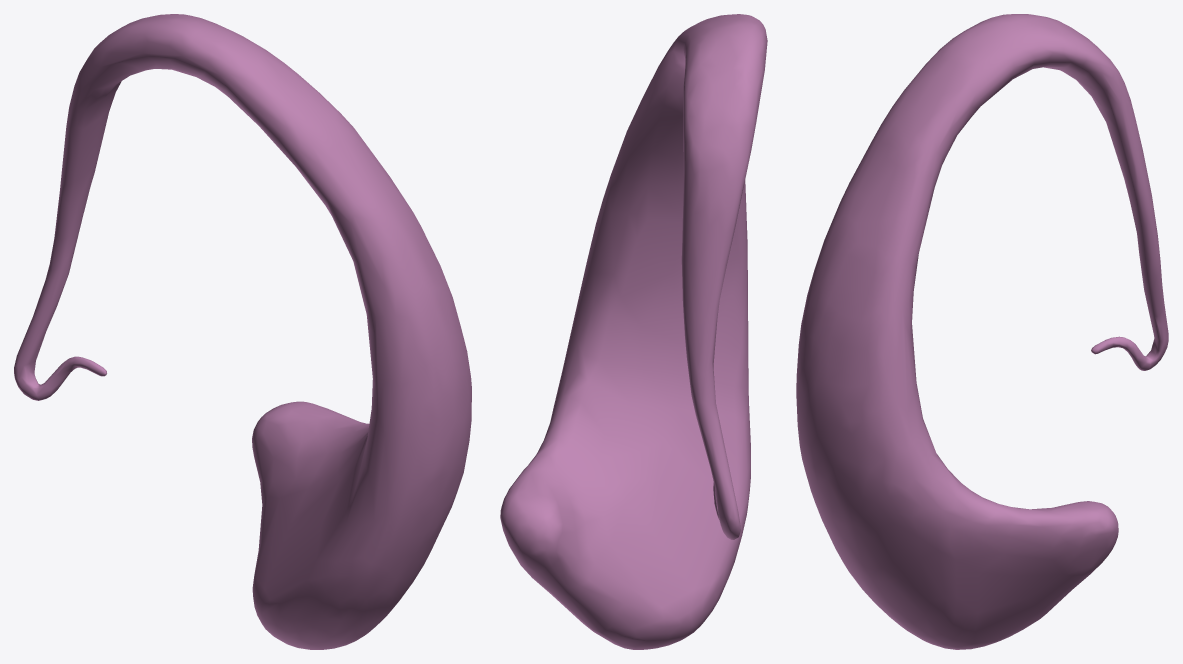
The picture shows the model from 3 angles, left to right: view 1: azimuth 30°, elevation 25°; view 2: azimuth 150°, elevation 25°; view 3: azimuth 270°, elevation 25°; orthographic projection. The views are drawn at different scales.
Visible parts, largest first — view 1: 右侧尾状核; view 2: 右侧尾状核; view 3: 右侧尾状核.
Boxes of the visible parts, left/top/right/bottom form: 右侧尾状核: left=14, top=14, right=471, bottom=649; 右侧尾状核: left=500, top=14, right=767, bottom=649; 右侧尾状核: left=796, top=14, right=1168, bottom=649.
Size of the model in its own units: 0.0455 by 0.0909 by 0.053.
